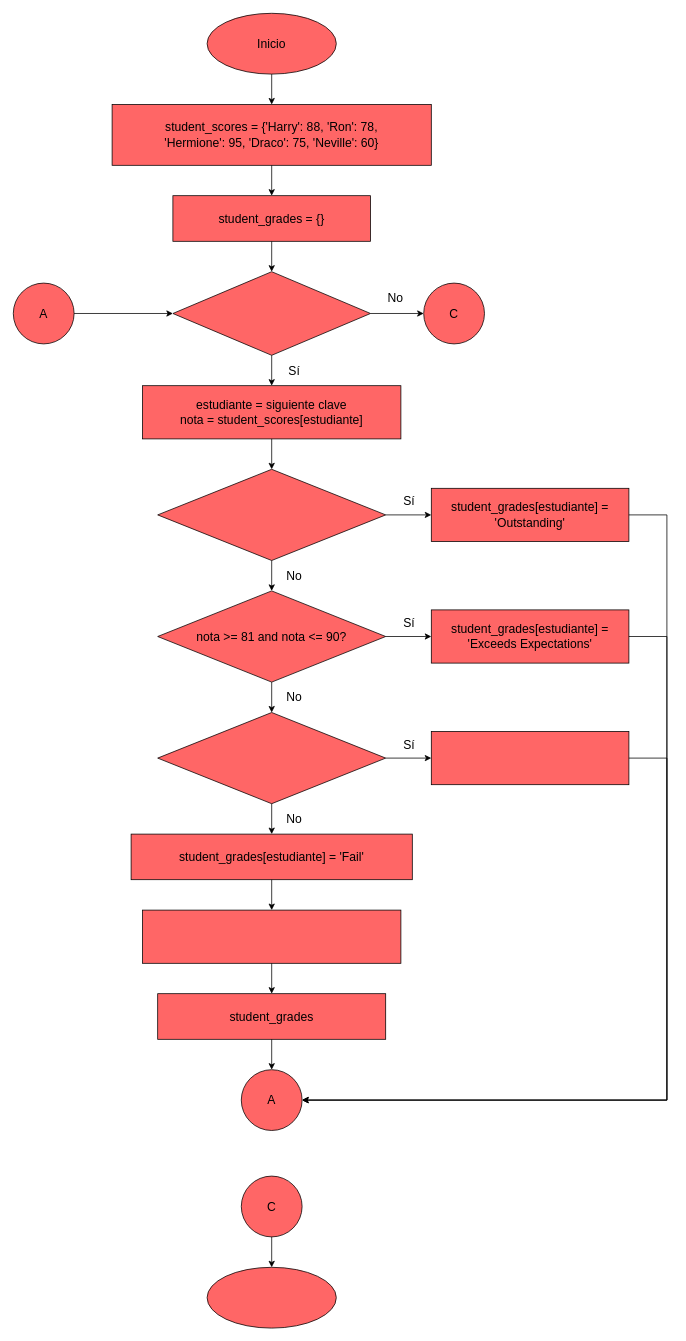
Image size: 686x1341. Some labels were removed from this diagram. The centre of each missing label's shape, as x and y in pixels:
"Diccionario final de calificaciones" belongs at point 271,936.
"Fin" belongs at point 271,1297.
"nota >= 71 and nota <= 80?" belongs at point 271,758.
"nota >= 91 and nota <= 100?" belongs at point 271,514.
"student_grades[estudiante] = 'Acceptable'" belongs at point 530,758.
"¿Quedan estudiantes?" belongs at point 271,313.
